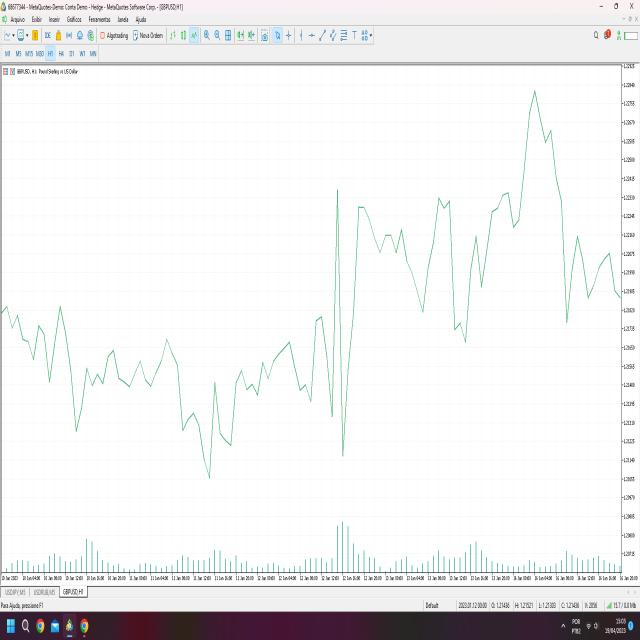oco_inv: (173, 384, 240, 495)
